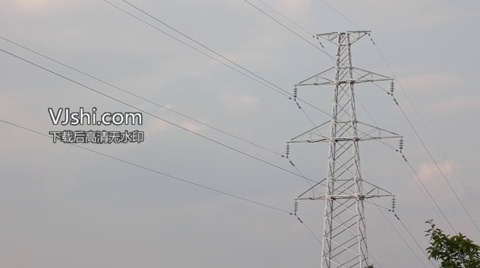tower_body: (291, 22, 403, 267)
tower_foot: (316, 223, 378, 268)
tower_head: (310, 27, 374, 49)
